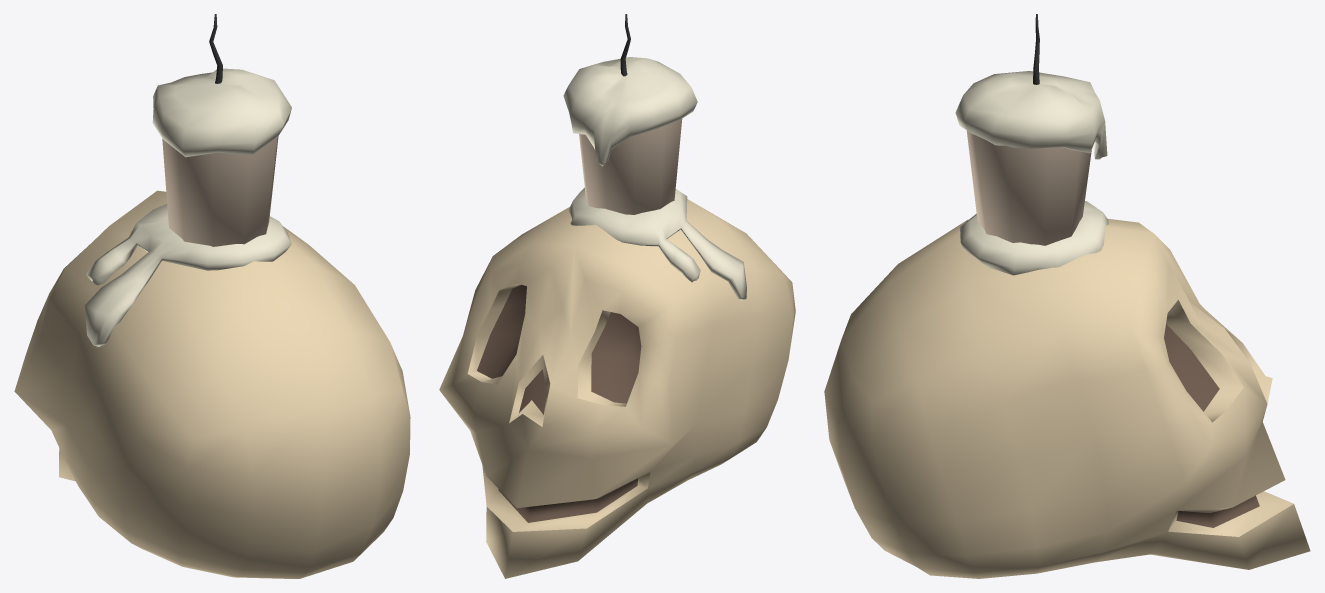
Rendered from props_skull_candle.fbx.
The picture shows the model from 3 angles, left to right: view 1: azimuth 30°, elevation 25°; view 2: azimuth 150°, elevation 25°; view 3: azimuth 270°, elevation 25°; orthographic projection. The views are drawn at different scales.
Visible parts, largest first — view 1: Cylinder; view 2: Cylinder; view 3: Cylinder.
Part boxes in pixels (x1,y1,x2,y2): Cylinder: (14,14,410,578); Cylinder: (439,14,795,578); Cylinder: (824,14,1310,578).
Bounding box in the file's own units: 0.4481 × 0.6858 × 0.8355.
